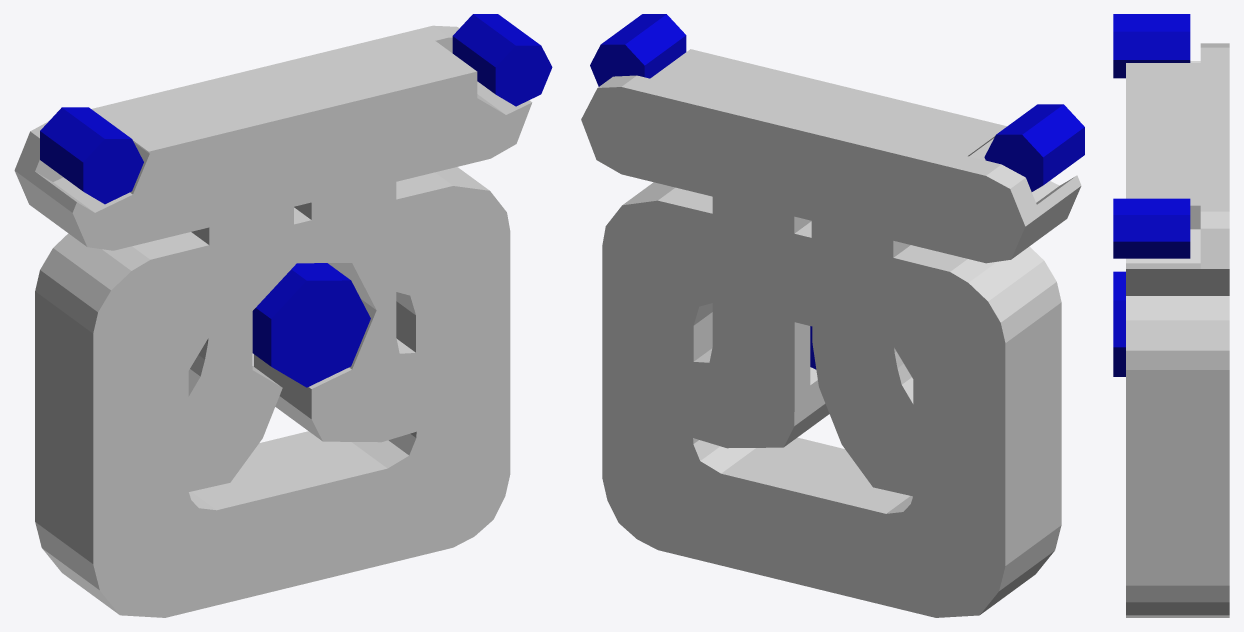
The model's file is Ch_Lite_China_西_01.fbx.
3 views of the same model, side by side, from view 1: azimuth 30°, elevation 25°; view 2: azimuth 150°, elevation 25°; view 3: azimuth 270°, elevation 25° (orthographic). The views are drawn at different scales.
Parts seen in each view (by area): view 1: sphere1; view 2: sphere1; view 3: sphere1.
Part boxes in pixels (x1,y1,x2,y2): sphere1: (14, 14, 552, 617); sphere1: (581, 14, 1084, 617); sphere1: (1113, 14, 1229, 617).
Size of the model in its own units: 0.9397 by 0.9504 by 0.2242.
